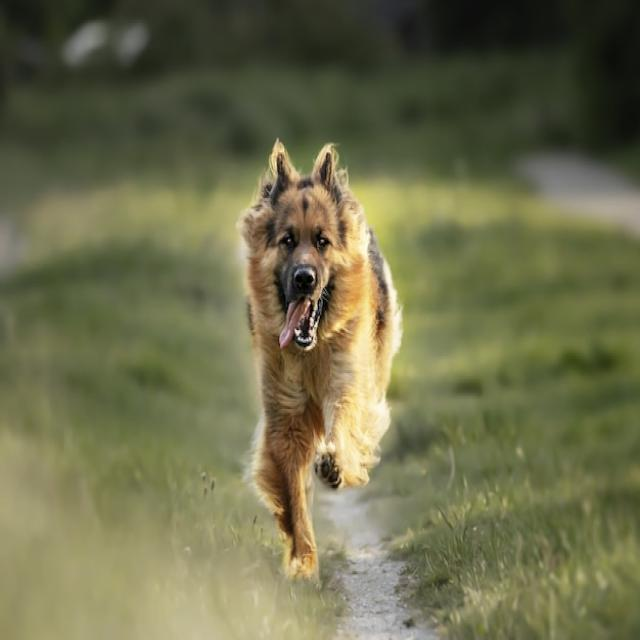Dog: (242, 141, 405, 579)
